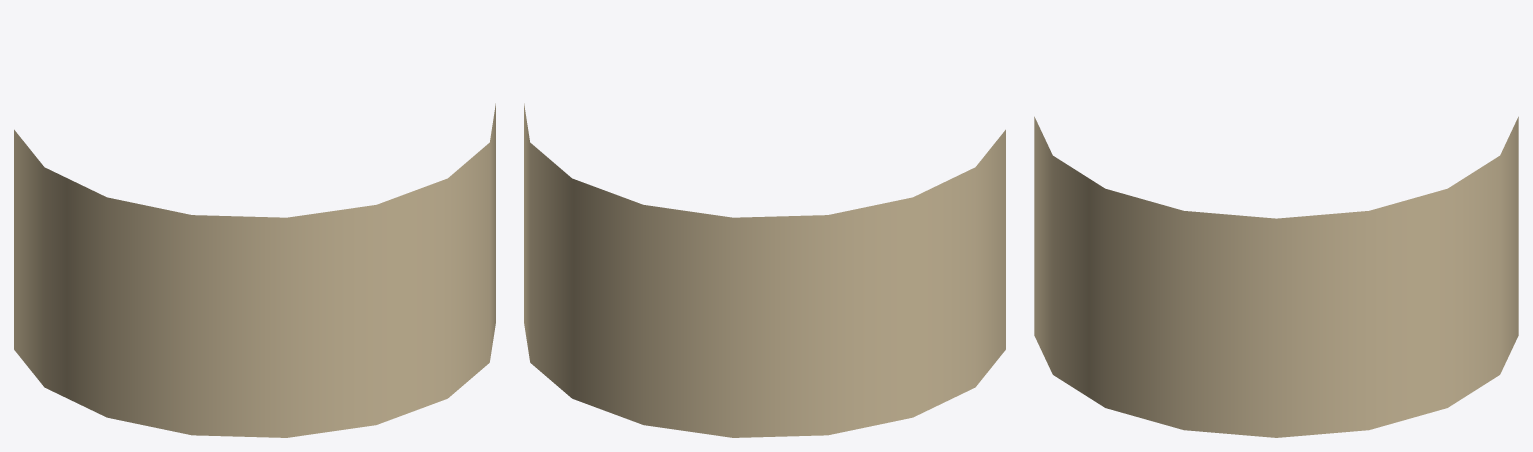
The model's file is prop_cake_eatme.glb.
3 views of the same model, side by side, from view 1: azimuth 30°, elevation 25°; view 2: azimuth 150°, elevation 25°; view 3: azimuth 270°, elevation 25° (orthographic).
Visible parts, largest first — view 1: EatMe_Cake; view 2: EatMe_Cake; view 3: EatMe_Cake.
Boxes of the visible parts, <box> form: EatMe_Cake: <box>14,103,495,437</box>; EatMe_Cake: <box>524,103,1005,437</box>; EatMe_Cake: <box>1034,116,1518,437</box>.
Size of the model in its own units: 0.05 by 0.025 by 0.05.
